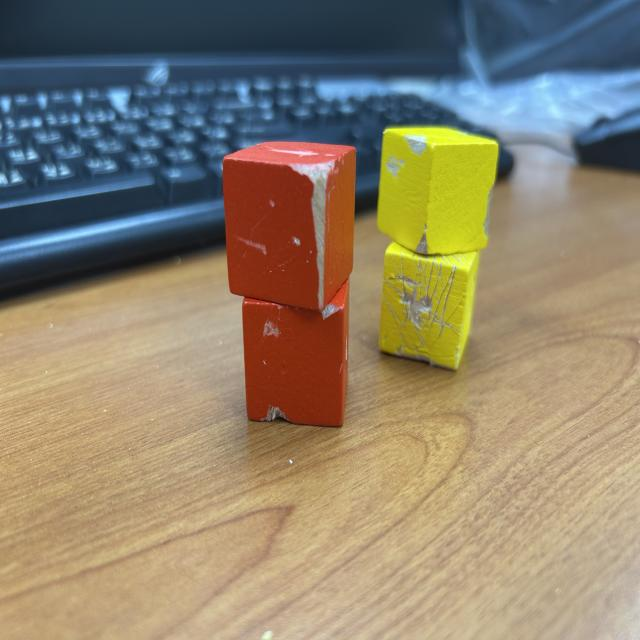broken: (222, 142, 356, 312), (242, 274, 350, 428), (375, 125, 499, 256), (378, 238, 479, 371)
